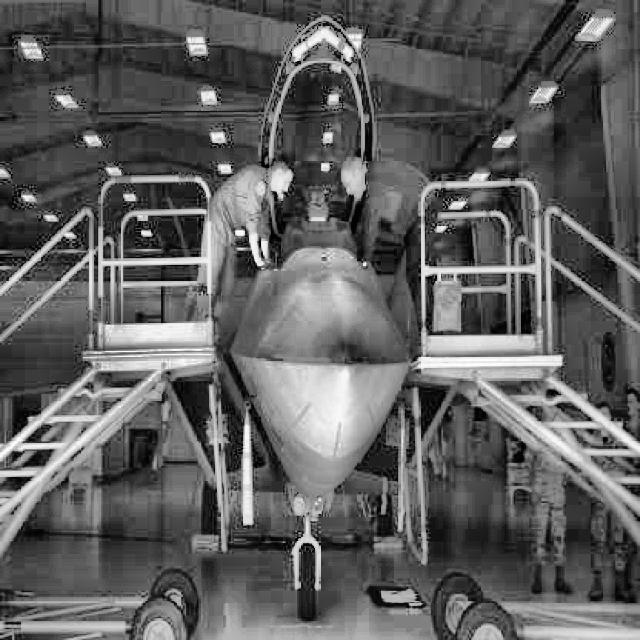F22: (1, 15, 567, 619)
